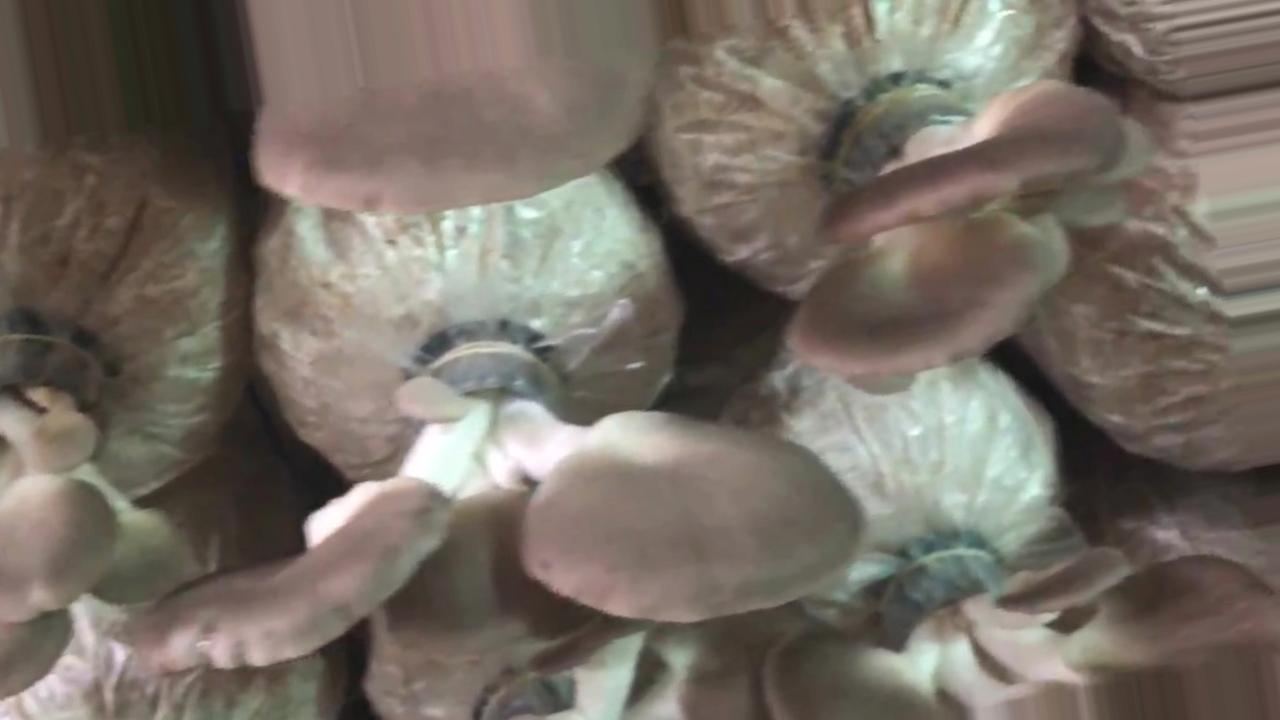nam: (134, 328, 868, 689), (780, 78, 1157, 398), (769, 524, 1275, 720), (249, 42, 659, 225), (1, 307, 206, 628)
